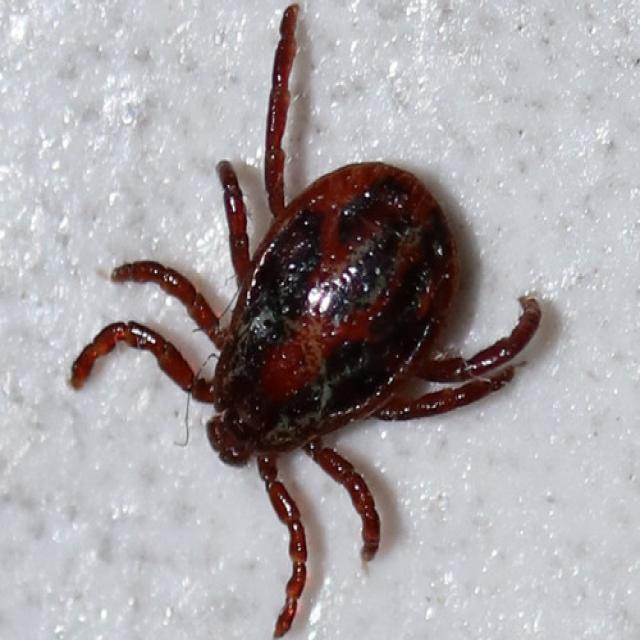Dermacentor Reticulatus-M: (70, 5, 544, 635)
